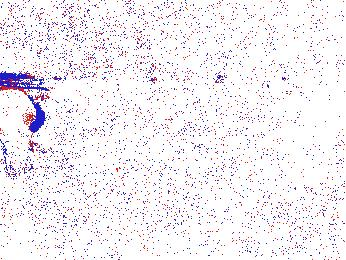flame jellyfish: (1, 81, 46, 179), (186, 196, 238, 247), (1, 215, 52, 260)
